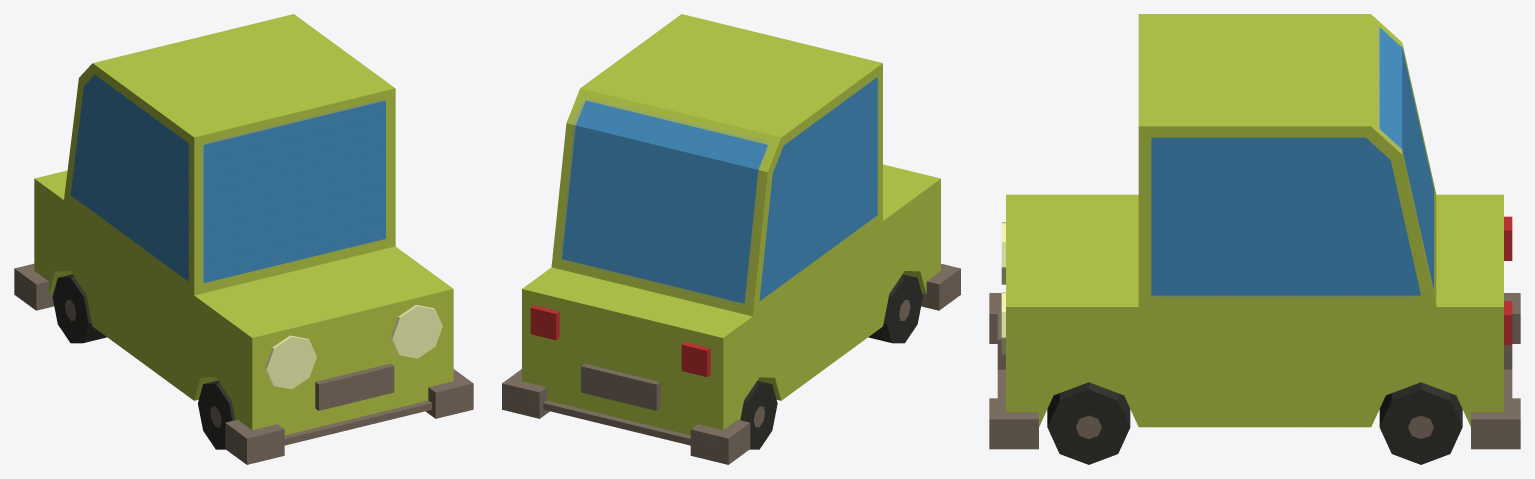
The model's file is Car.fbx.
The picture shows the model from 3 angles, left to right: view 1: azimuth 30°, elevation 25°; view 2: azimuth 150°, elevation 25°; view 3: azimuth 270°, elevation 25°; orthographic projection. The views are drawn at different scales.
Visible parts, largest first — view 1: Car; view 2: Car; view 3: Car.
Part boxes in pixels (left/top/right/bottom): Car: left=14, top=14, right=473, bottom=464; Car: left=502, top=14, right=960, bottom=464; Car: left=989, top=14, right=1520, bottom=464.
Bounding box in the file's own units: 180 × 225 × 320.
